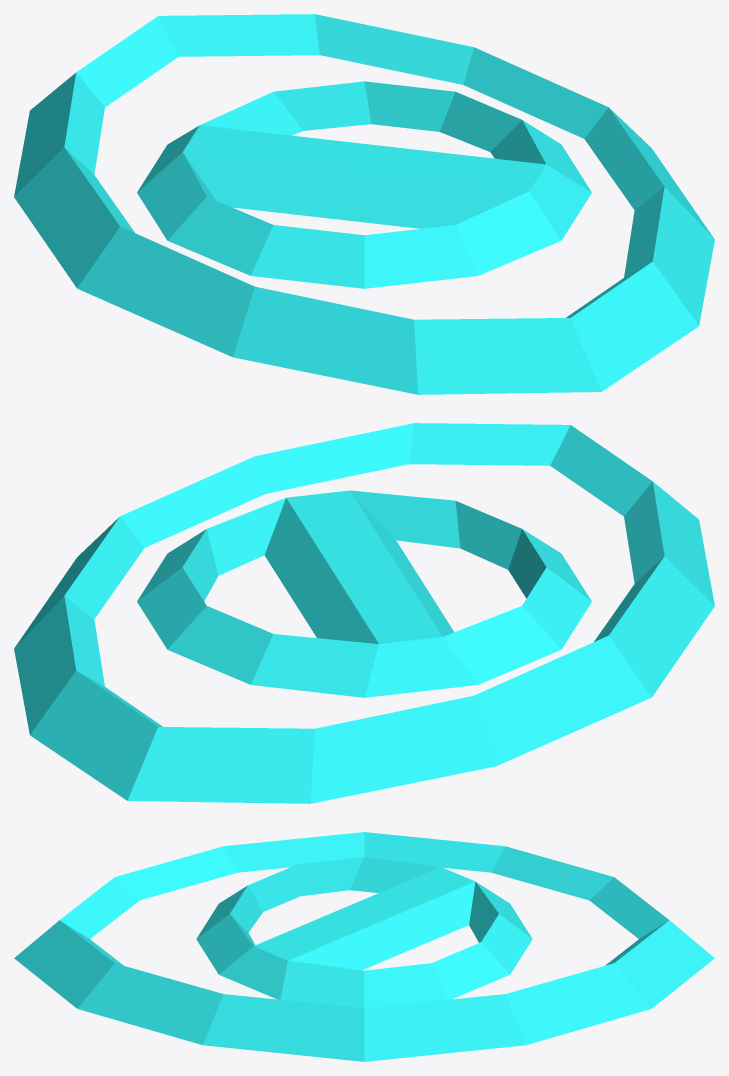
The model's file is Oslepienie.fbx.
3 views of the same model, one above another, from view 1: azimuth 30°, elevation 25°; view 2: azimuth 150°, elevation 25°; view 3: azimuth 270°, elevation 25° (orthographic). The views are drawn at different scales.
Visible parts, largest first — view 1: Cylinder; view 2: Cylinder; view 3: Cylinder.
Part boxes in pixels (bbox=[...]): Cylinder: bbox=[14, 14, 714, 394]; Cylinder: bbox=[14, 423, 714, 803]; Cylinder: bbox=[14, 832, 714, 1061].
Size of the model in its own units: 350 by 35 by 500.
